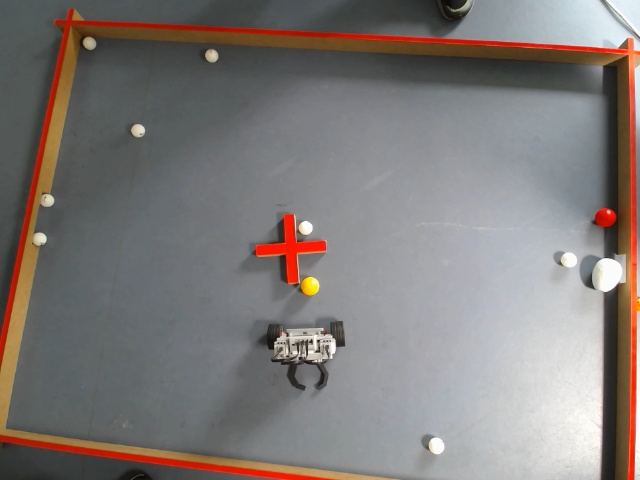big_goal: (21, 188, 55, 251)
cross: (252, 212, 328, 286)
egg: (593, 256, 622, 292)
robot: (266, 320, 346, 391)
small_goal: (612, 248, 639, 292)
wall: (50, 5, 640, 70), (0, 8, 87, 442), (0, 412, 462, 480), (609, 33, 640, 480)
white: (426, 436, 446, 453), (559, 252, 577, 268), (203, 46, 220, 62), (38, 193, 56, 208), (129, 122, 147, 136), (30, 230, 48, 244), (298, 220, 313, 236), (82, 35, 95, 49)
